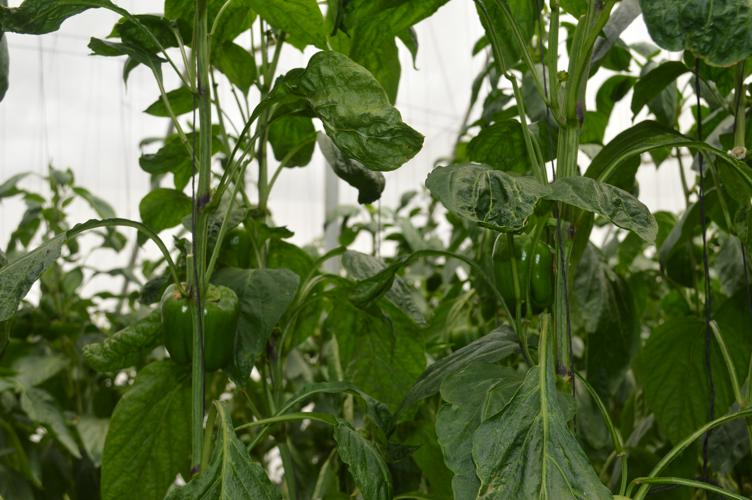BellPepper: (160, 286, 236, 369), (488, 230, 559, 316)
